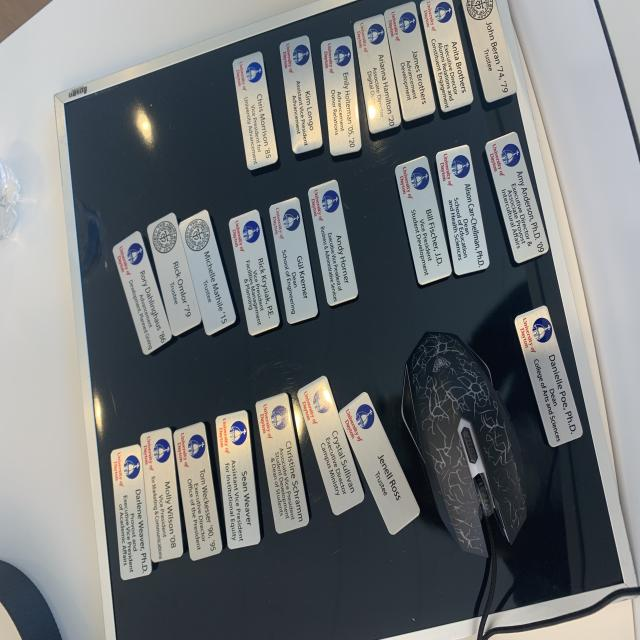Mouse: (390, 321, 532, 564)
